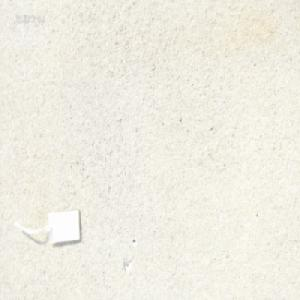LuggageTag: (13, 206, 83, 249)
